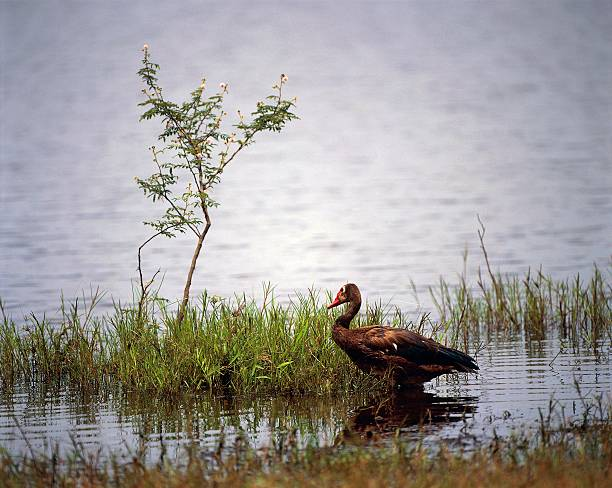goose: (322, 278, 488, 407)
